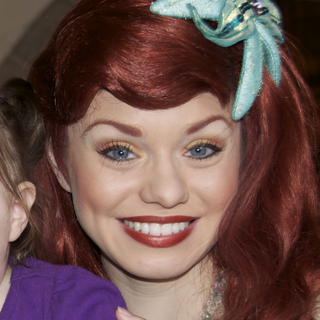eye: (94, 140, 143, 165), (180, 138, 226, 164)
